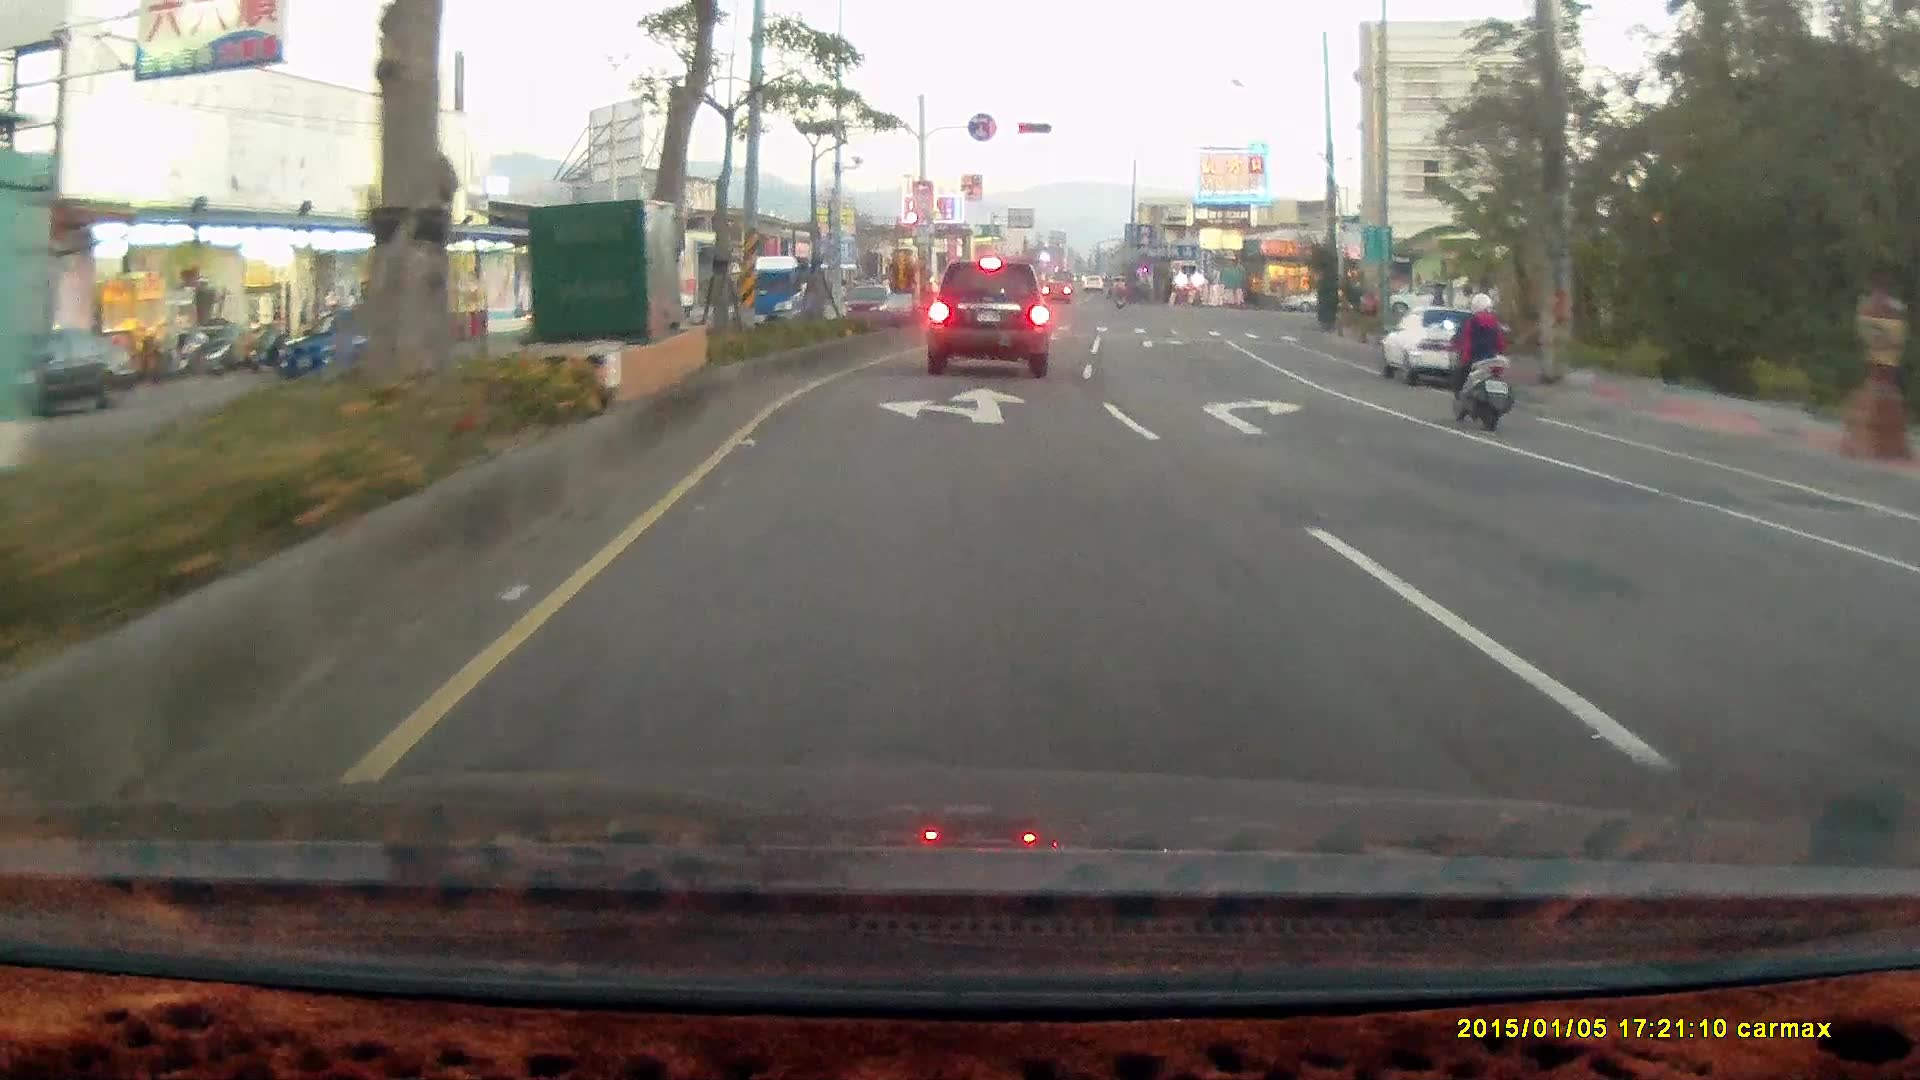rider: (1439, 289, 1517, 430)
vehicle: (924, 259, 1048, 378), (1376, 305, 1512, 389), (1383, 306, 1523, 386), (280, 305, 422, 380), (1896, 493, 1920, 836), (1883, 528, 1920, 690), (1383, 278, 1474, 317)
